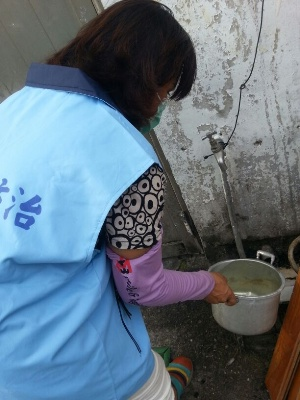bowl: (206, 259, 286, 335)
